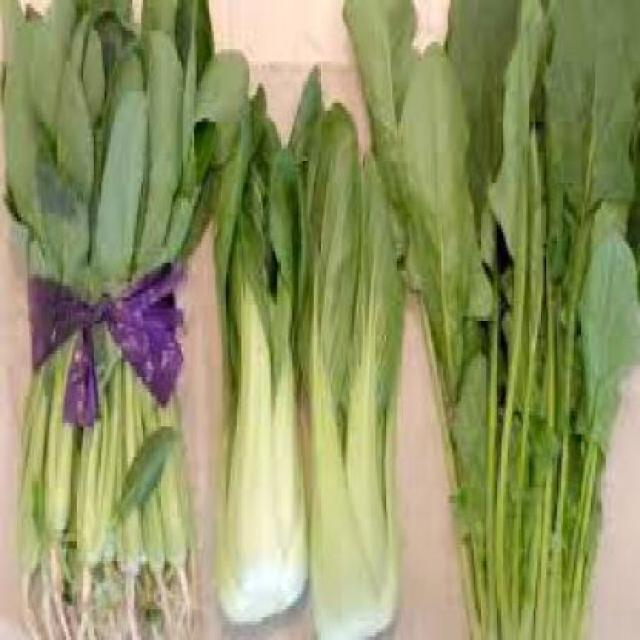BIODEGRADABLE: (341, 0, 636, 637), (0, 0, 198, 632), (298, 84, 397, 636), (215, 87, 308, 636)
